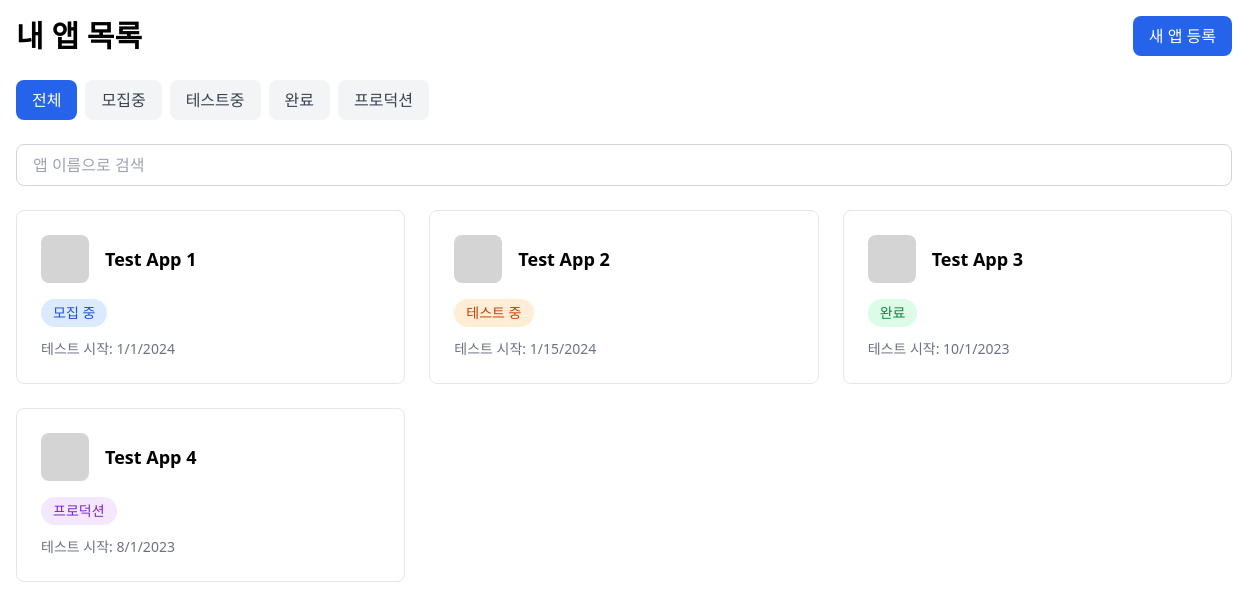
it: P3-S8: Developer Apps List › 🔴 RED: Status Filter Tabs › should filter apps by COMPLETED status when "완료" tab clicked
This screenshot has width=1249, height=599.
Check: the heading "Test App 1" is shown, box [105, 247, 196, 271]
Click the button "완료": click(299, 100) [268, 80, 330, 120]
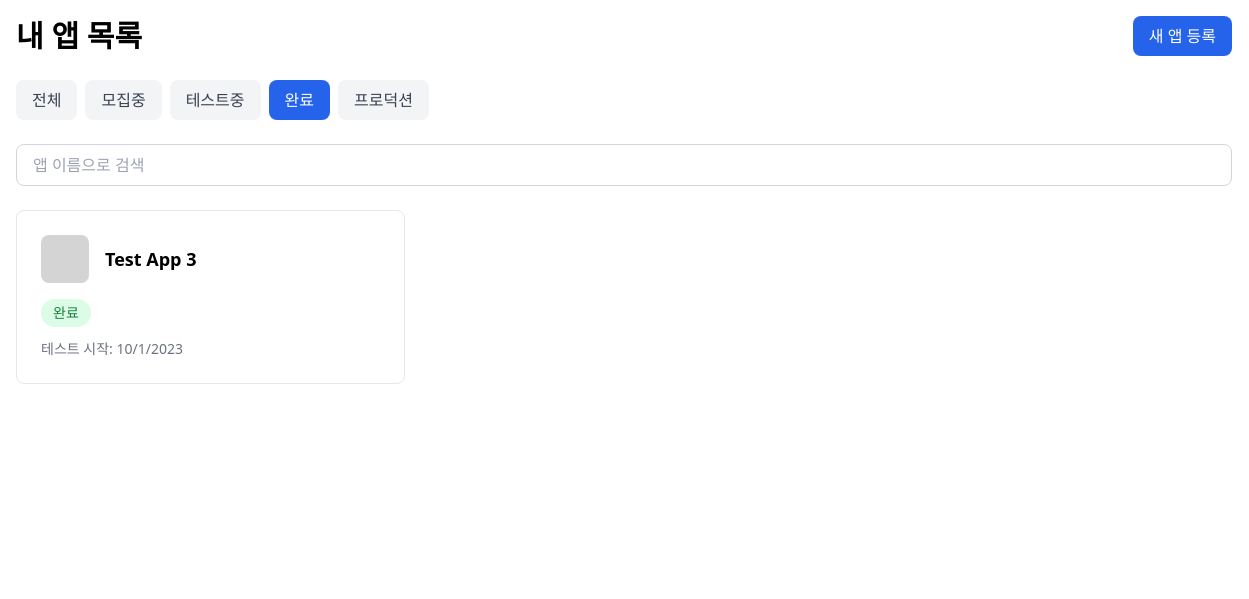
Check: the heading "Test App 1" is gone
Check: the heading "Test App 2" is gone
Check: the heading "Test App 4" is gone
